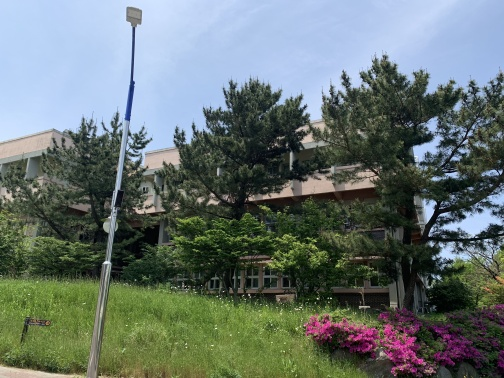College Of Education: (2, 104, 428, 305)
